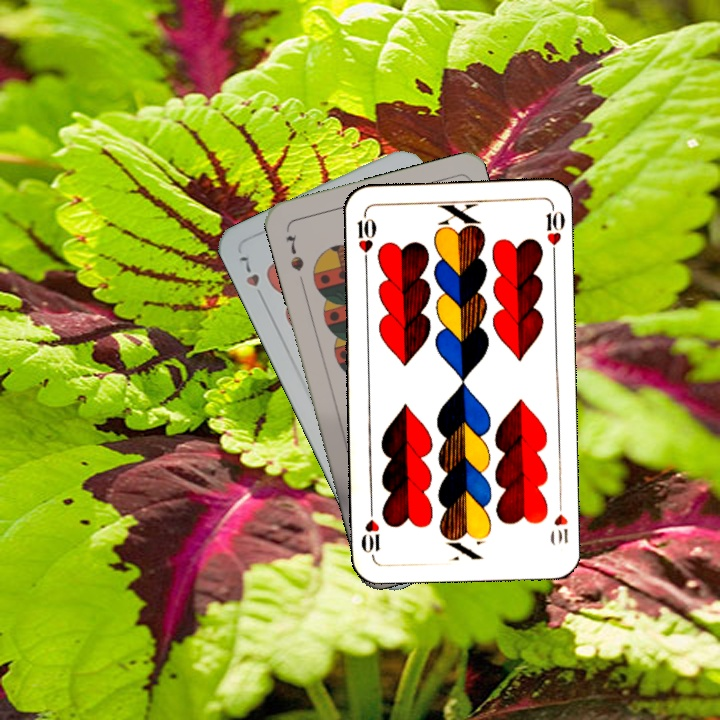H10: (354, 208, 378, 267), (546, 494, 571, 548)
H7: (234, 250, 267, 305)
S7: (282, 231, 307, 274)
